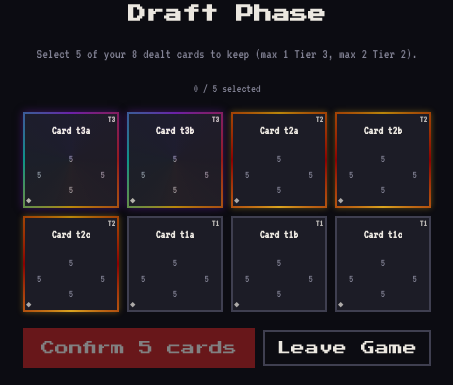
Test: DraftingGameView › enables confirm button only when 5 cards selected
Expected: the button "Confirm 5 cards" is disabled, [23, 328, 255, 368]
Click the list item "Card t3a 5 5 5 5 ◆ T3": (71, 160) [23, 112, 119, 208]
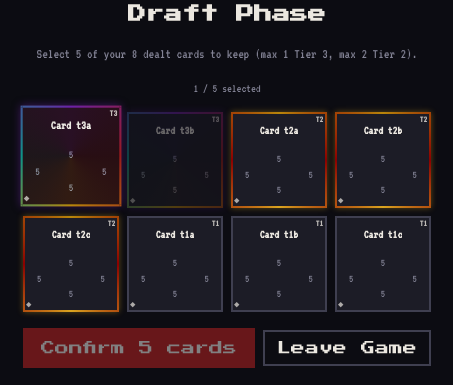
Click the list item "Card t2a 5 5 5 5 ◆ T2": (279, 160) [231, 112, 327, 208]
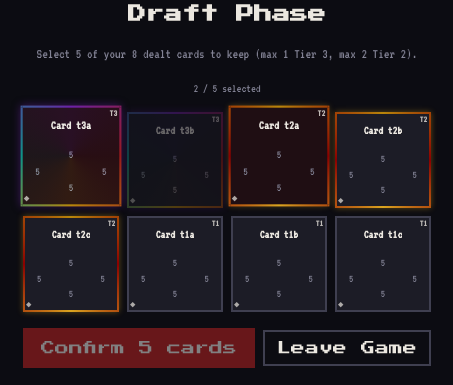
Click the list item "Card t2b 5 5 5 5 ◆ T2": (383, 160) [335, 112, 431, 208]
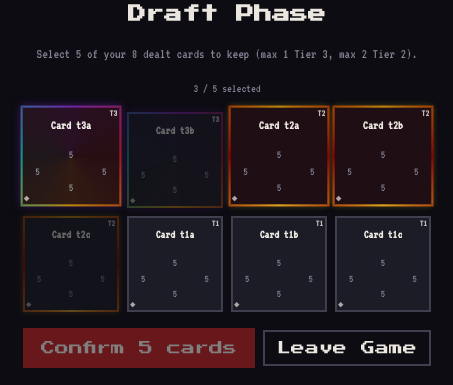
Click the list item "Card t1a 5 5 5 5 ◆ T1": (175, 264) [127, 216, 223, 312]
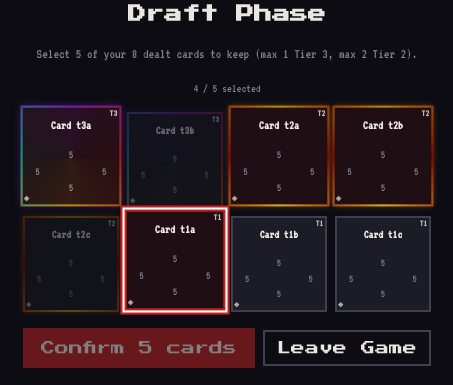
Click the list item "Card t1b 5 5 5 5 ◆ T1": (279, 264) [231, 216, 327, 312]
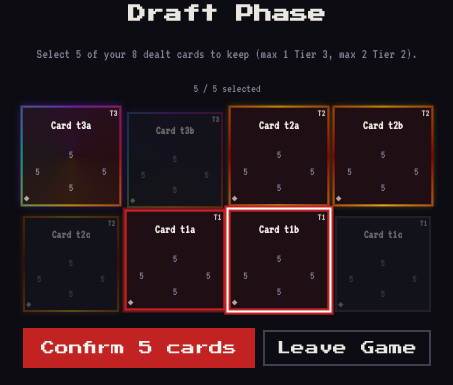
Expected: the button "Confirm 5 cards" is enabled, [23, 328, 255, 368]
